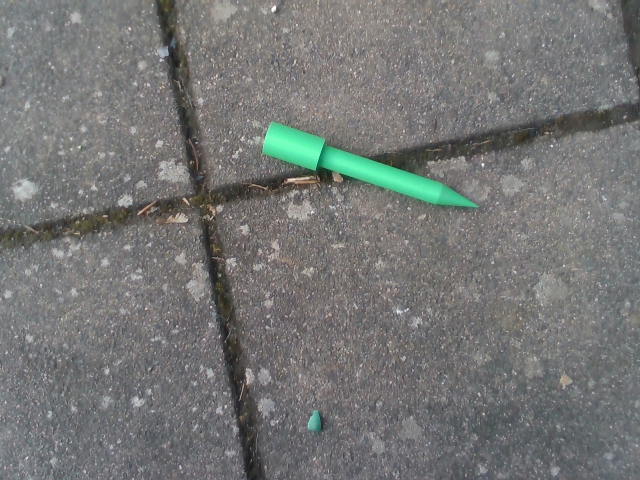Probe: (255, 118, 485, 214)
